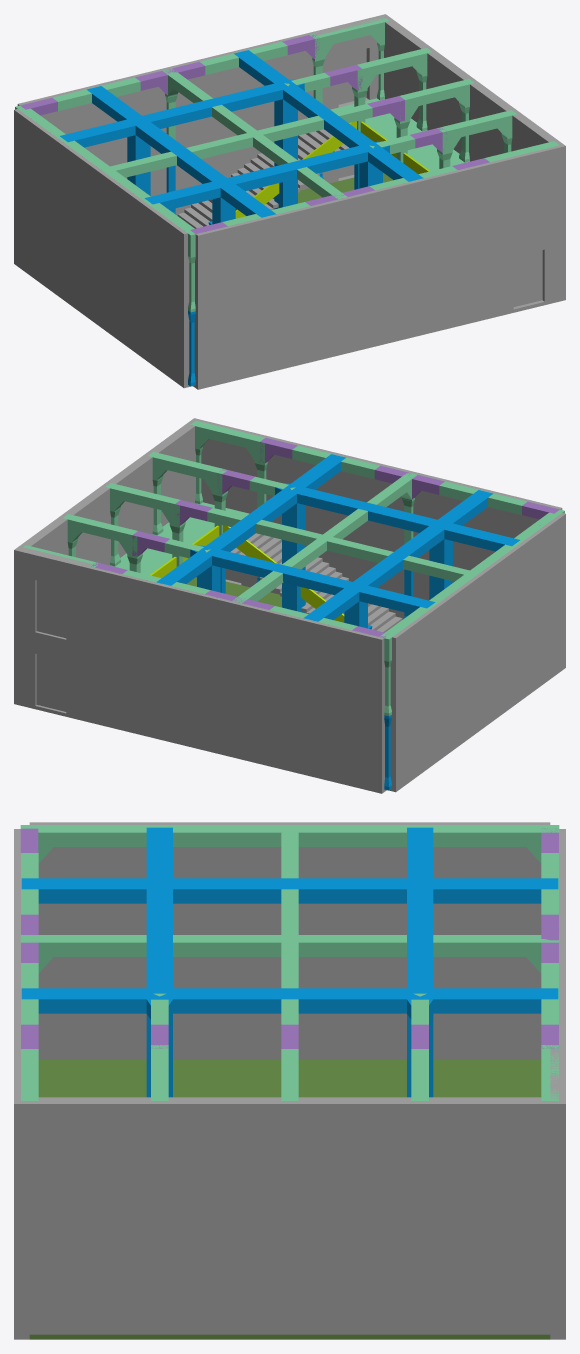
File: Sala_Vacia.fbx
The picture shows the model from 3 angles, top to bottom: view 1: azimuth 30°, elevation 25°; view 2: azimuth 150°, elevation 25°; view 3: azimuth 270°, elevation 25°; orthographic projection. The views are drawn at different scales.
Parts seen in each view (by area): view 1: polySurface2071; view 2: polySurface2071; view 3: polySurface2071.
Boxes of the visible parts, x1,y1,x2,y2 form: polySurface2071: (14,14,565,389); polySurface2071: (14,418,565,793); polySurface2071: (14,822,565,1339).
Size of the model in its own units: 116 by 45.14 by 95.71.
